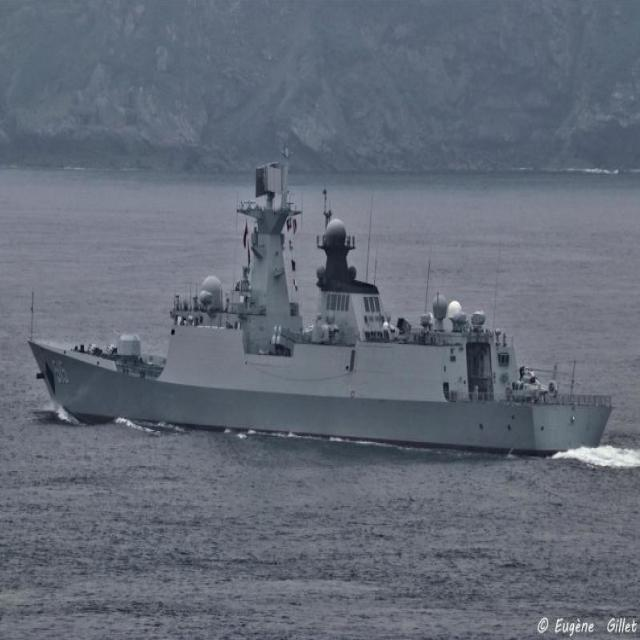Fragata: (29, 144, 615, 457)
